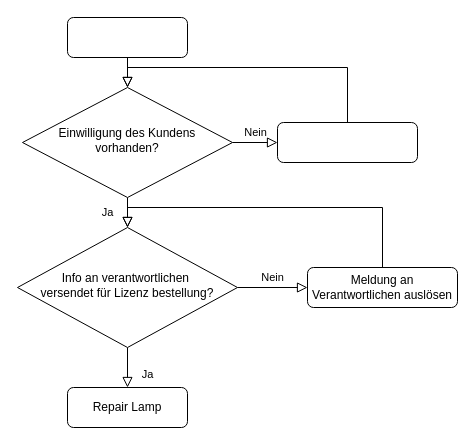
This 475x445 diagram has some shape labels left out. Here are the shapes that lost their labels. From the top down, the box of each, then its label:
(66, 16, 188, 58): Keine freien Lizenzen mehr im Tenant
(276, 122, 418, 162): Kunde informieren und einwilligung einhohlen.
